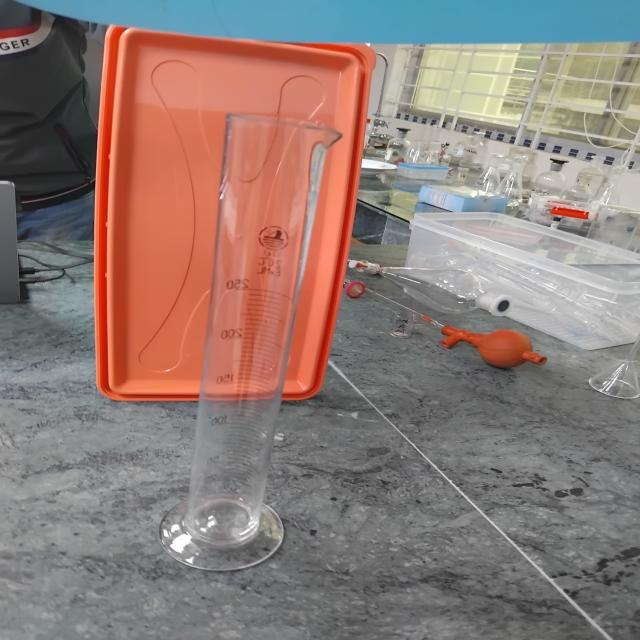Measuring_Cylinder: (117, 77, 337, 592)
